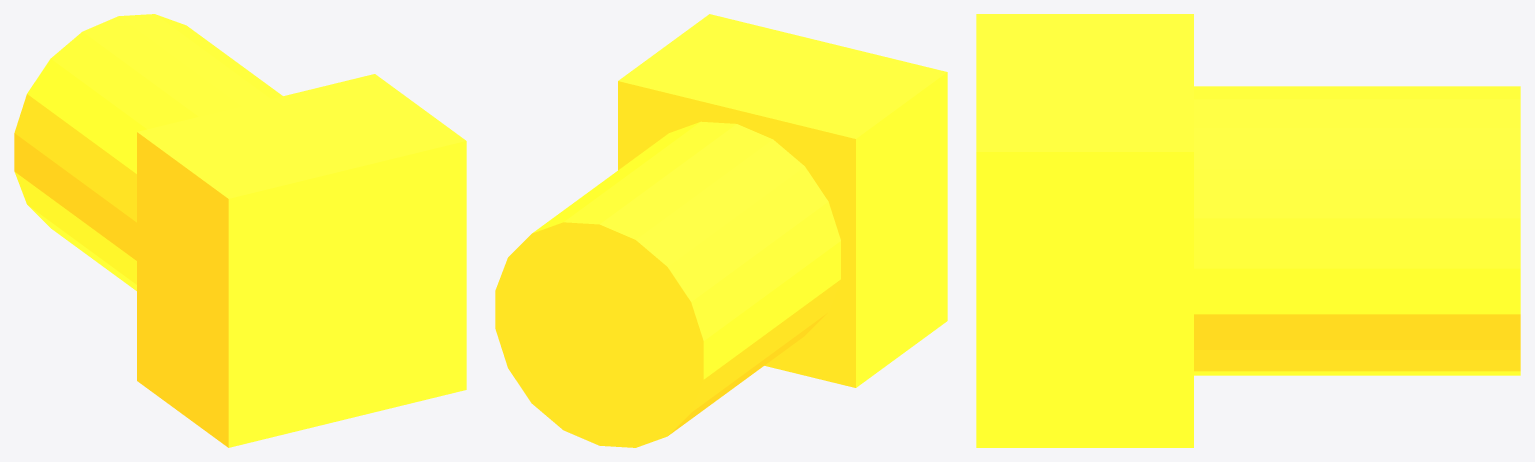
Rendered from gear_cache.glb.
The picture shows the model from 3 angles, left to right: view 1: azimuth 30°, elevation 25°; view 2: azimuth 150°, elevation 25°; view 3: azimuth 270°, elevation 25°; orthographic projection. The views are drawn at different scales.
Parts seen in each view (by area): view 1: gear_cache, cache_core; view 2: cache_core, gear_cache; view 3: cache_core, gear_cache.
Part boxes in pixels (x1,y1,x2,y2): gear_cache: [137, 74, 466, 447]; cache_core: [14, 14, 282, 290]; cache_core: [495, 121, 840, 447]; gear_cache: [618, 14, 947, 387]; cache_core: [1194, 86, 1520, 375]; gear_cache: [976, 14, 1193, 447].
Size of the model in its own units: 0.18 by 0.18 by 0.3.
